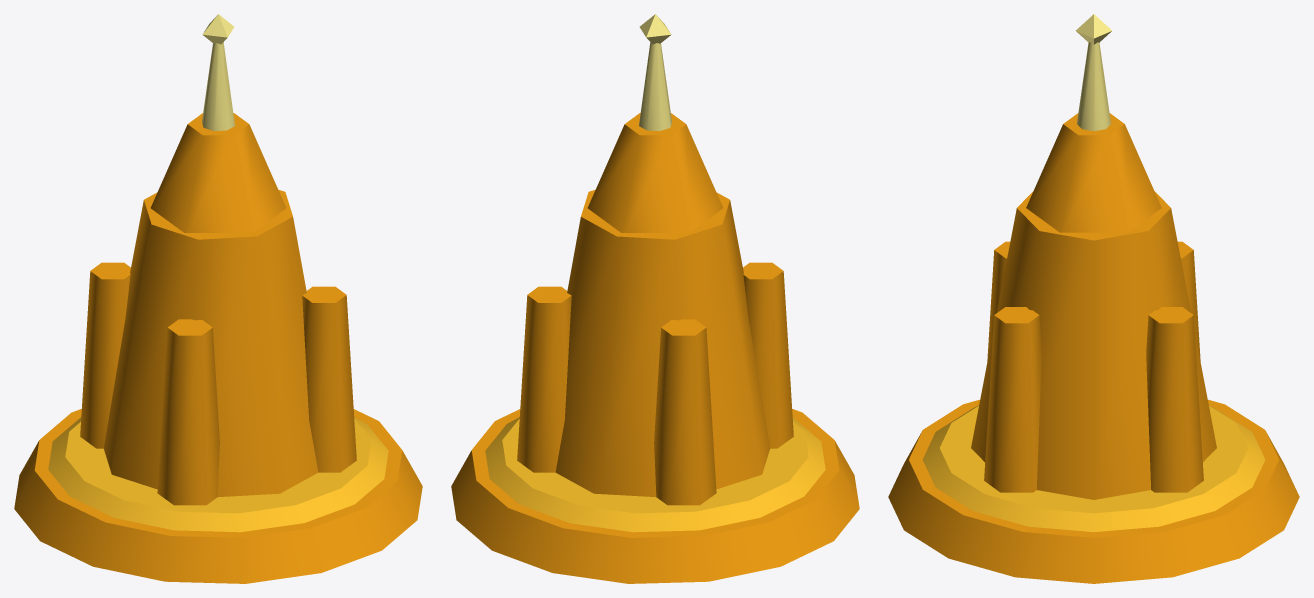
Rendered from pawn_tower.glb.
3 renders of one model, left to right at view 1: azimuth 30°, elevation 25°; view 2: azimuth 150°, elevation 25°; view 3: azimuth 270°, elevation 25°, orthographic.
Parts seen in each view (by area): view 1: PawnTower; view 2: PawnTower; view 3: PawnTower.
Part boxes in pixels (x1,y1,x2,y2): PawnTower: (14, 14, 422, 583); PawnTower: (451, 14, 859, 583); PawnTower: (888, 14, 1299, 583).
Size of the model in its own units: 0.4 by 0.518 by 0.4.
